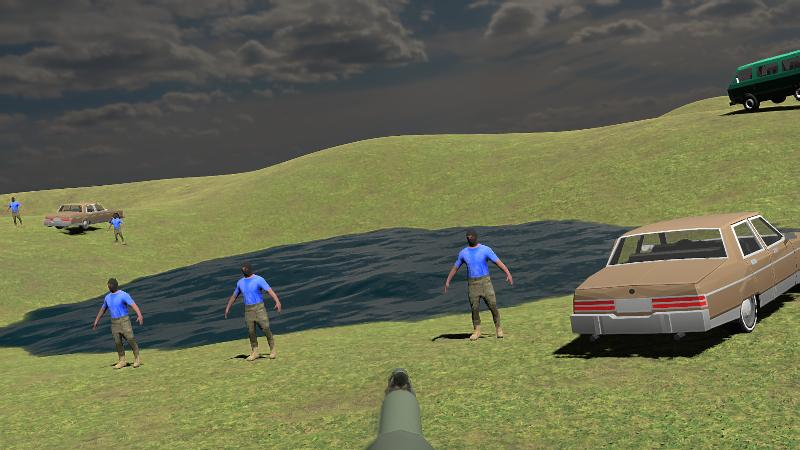Human: (445, 228, 513, 341), (225, 260, 280, 361), (93, 276, 143, 369), (93, 277, 143, 369), (108, 213, 126, 245)
car: (570, 213, 800, 346), (728, 46, 800, 112), (43, 201, 123, 232)
